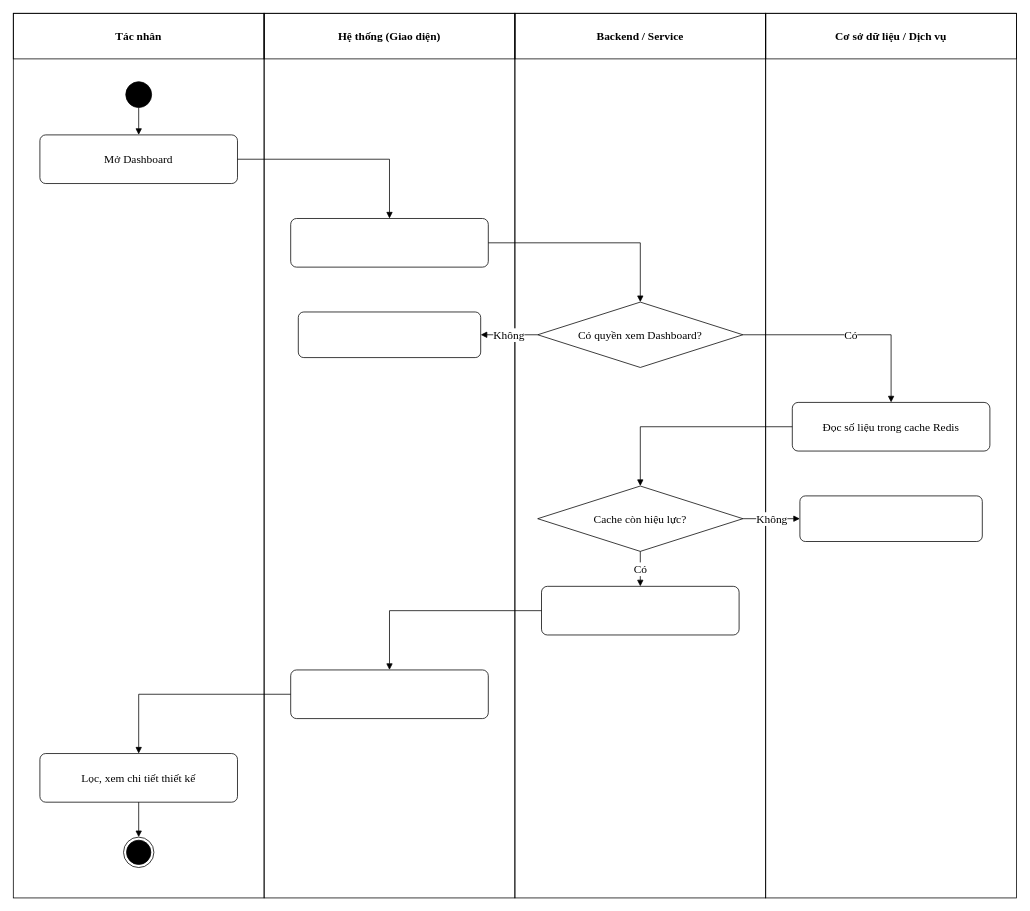
The diagram is 1030 pixels wide and 911 high, and some of its shapes have lost their labels. The box of each missing label's shape, as (x1, y1, x2, y2) in pixels:
Báo 403 – không đủ quyền: (298, 311, 481, 358)
Gửi query dashboard(range): (290, 218, 488, 267)
Hiển thị thẻ số liệu, biểu đồ, bảng: (290, 669, 488, 719)
Truy vấn thống kê artwork, template, preview: (799, 495, 982, 542)
Tổng hợp, chuẩn hóa số liệu: (541, 586, 739, 635)
